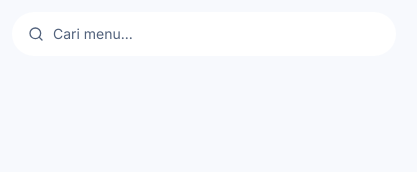
AdminSearch › filters the menu entries by label, ignoring case
Type "pOrto" into the search field labelled "Cari menu" at (204, 34), box x1=12 y1=12 x2=396 y2=56
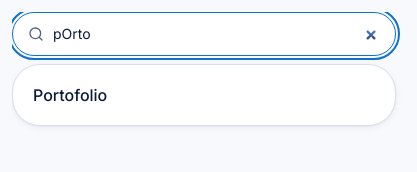
Result: the links read "Portofolio", in this order at x1=33 y1=85 x2=107 y2=105
